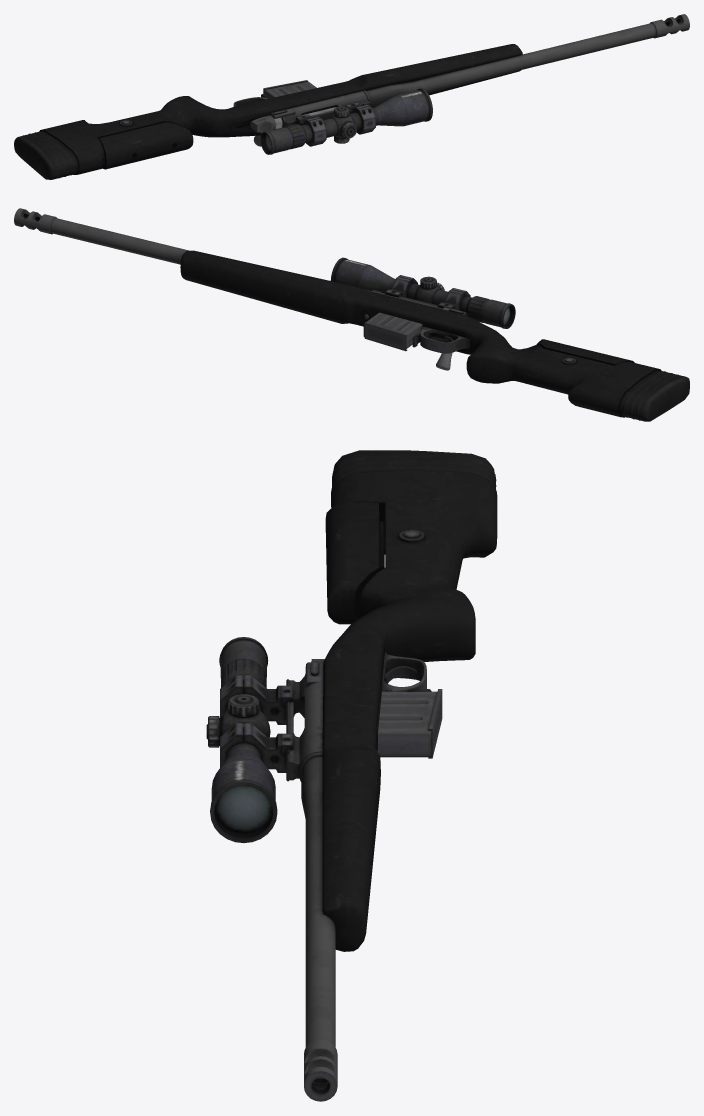
The model's file is M24_Drop.glb.
3 renders of one model, top to bottom at view 1: azimuth 30°, elevation 25°; view 2: azimuth 150°, elevation 25°; view 3: azimuth 270°, elevation 25°, orthographic. The views are drawn at different scales.
Parts seen in each view (by area): view 1: M24; view 2: M24; view 3: M24.
Part boxes in pixels (bbox=[...]): M24: bbox=[14, 14, 689, 179]; M24: bbox=[14, 208, 689, 421]; M24: bbox=[206, 450, 497, 1101].
Bounding box in the file's own units: 1.02 × 0.0777 × 0.2039.
1 material, 1 textured.
